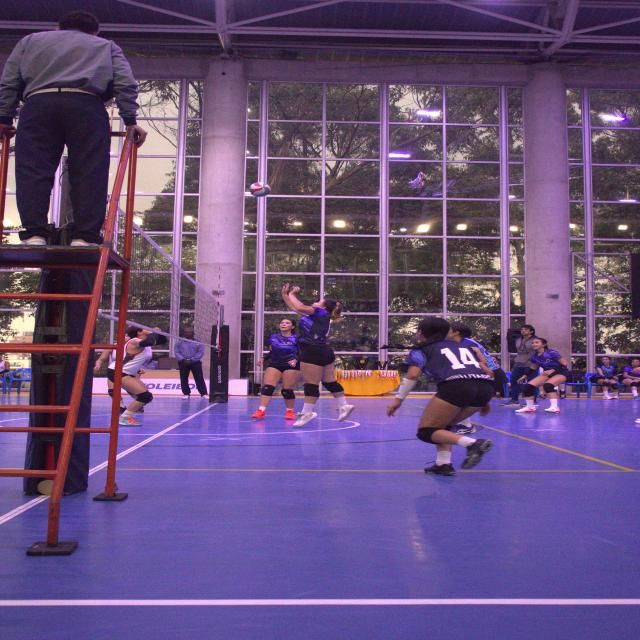volleyball: (248, 181, 270, 198)
